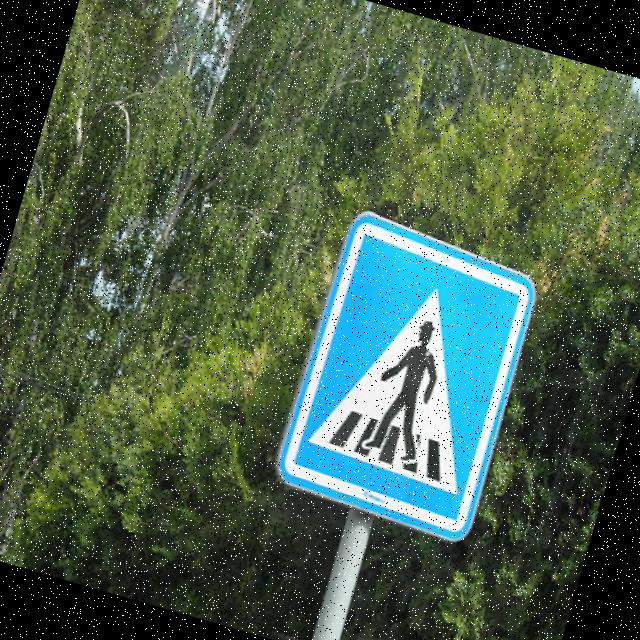crosswalk: (260, 189, 558, 560)
